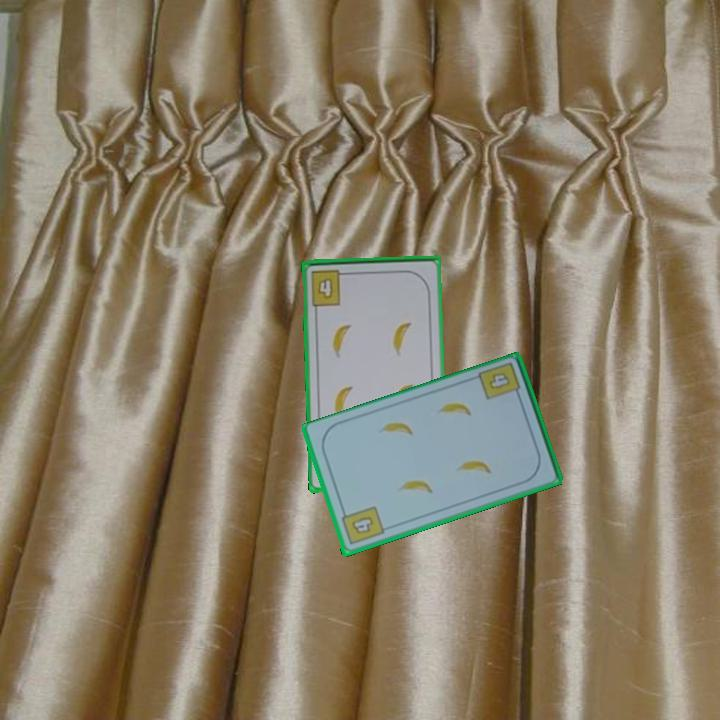4b: (337, 503, 386, 548), (475, 359, 524, 403), (308, 266, 351, 308)
